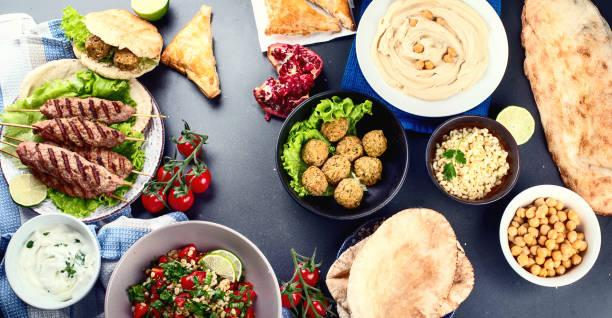Braised Crucian Carp: (1, 61, 164, 221), (354, 0, 508, 120), (274, 89, 406, 221), (103, 220, 279, 316), (330, 214, 468, 316)
